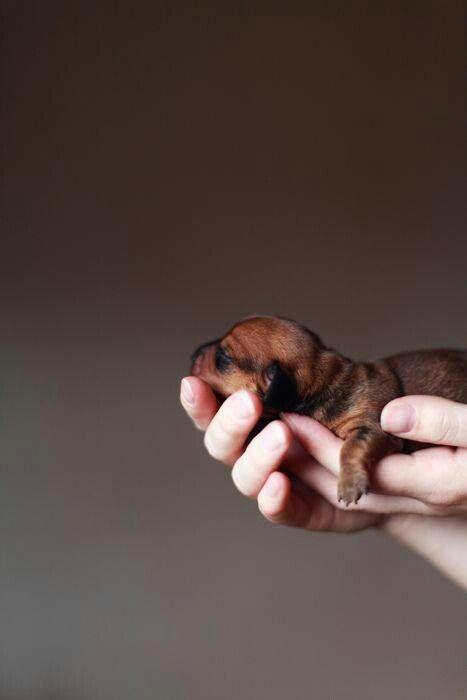puppy-dog: (182, 308, 467, 511)
